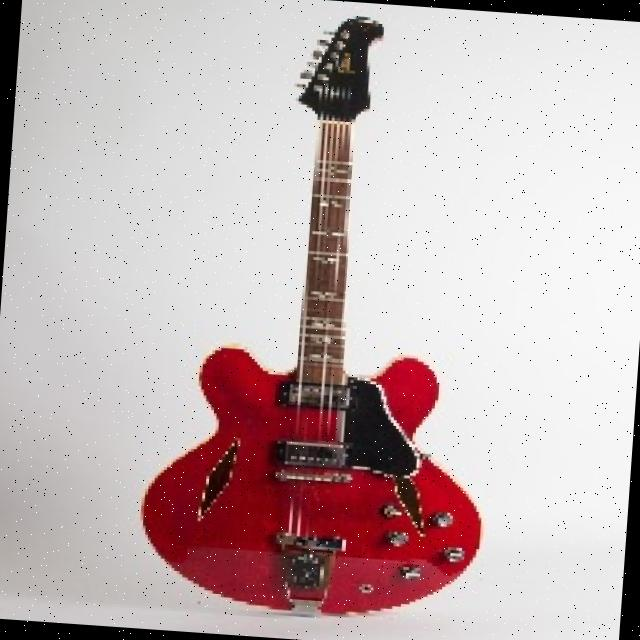guitar: (134, 0, 519, 630)
